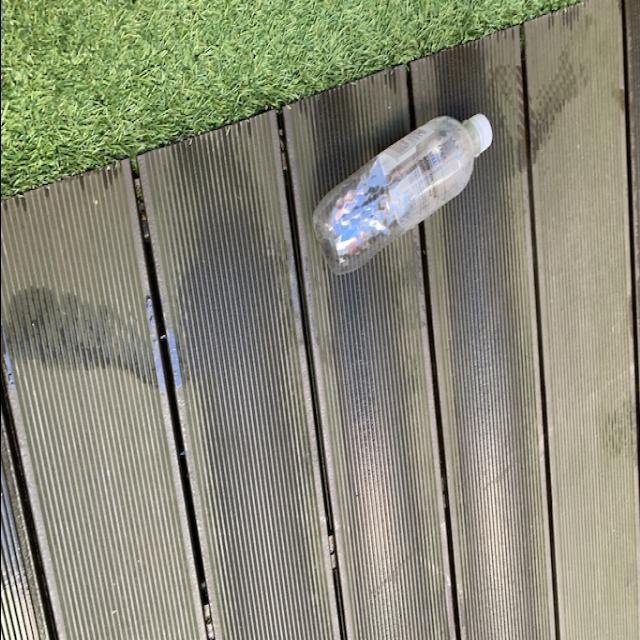PET: (308, 111, 494, 279)
